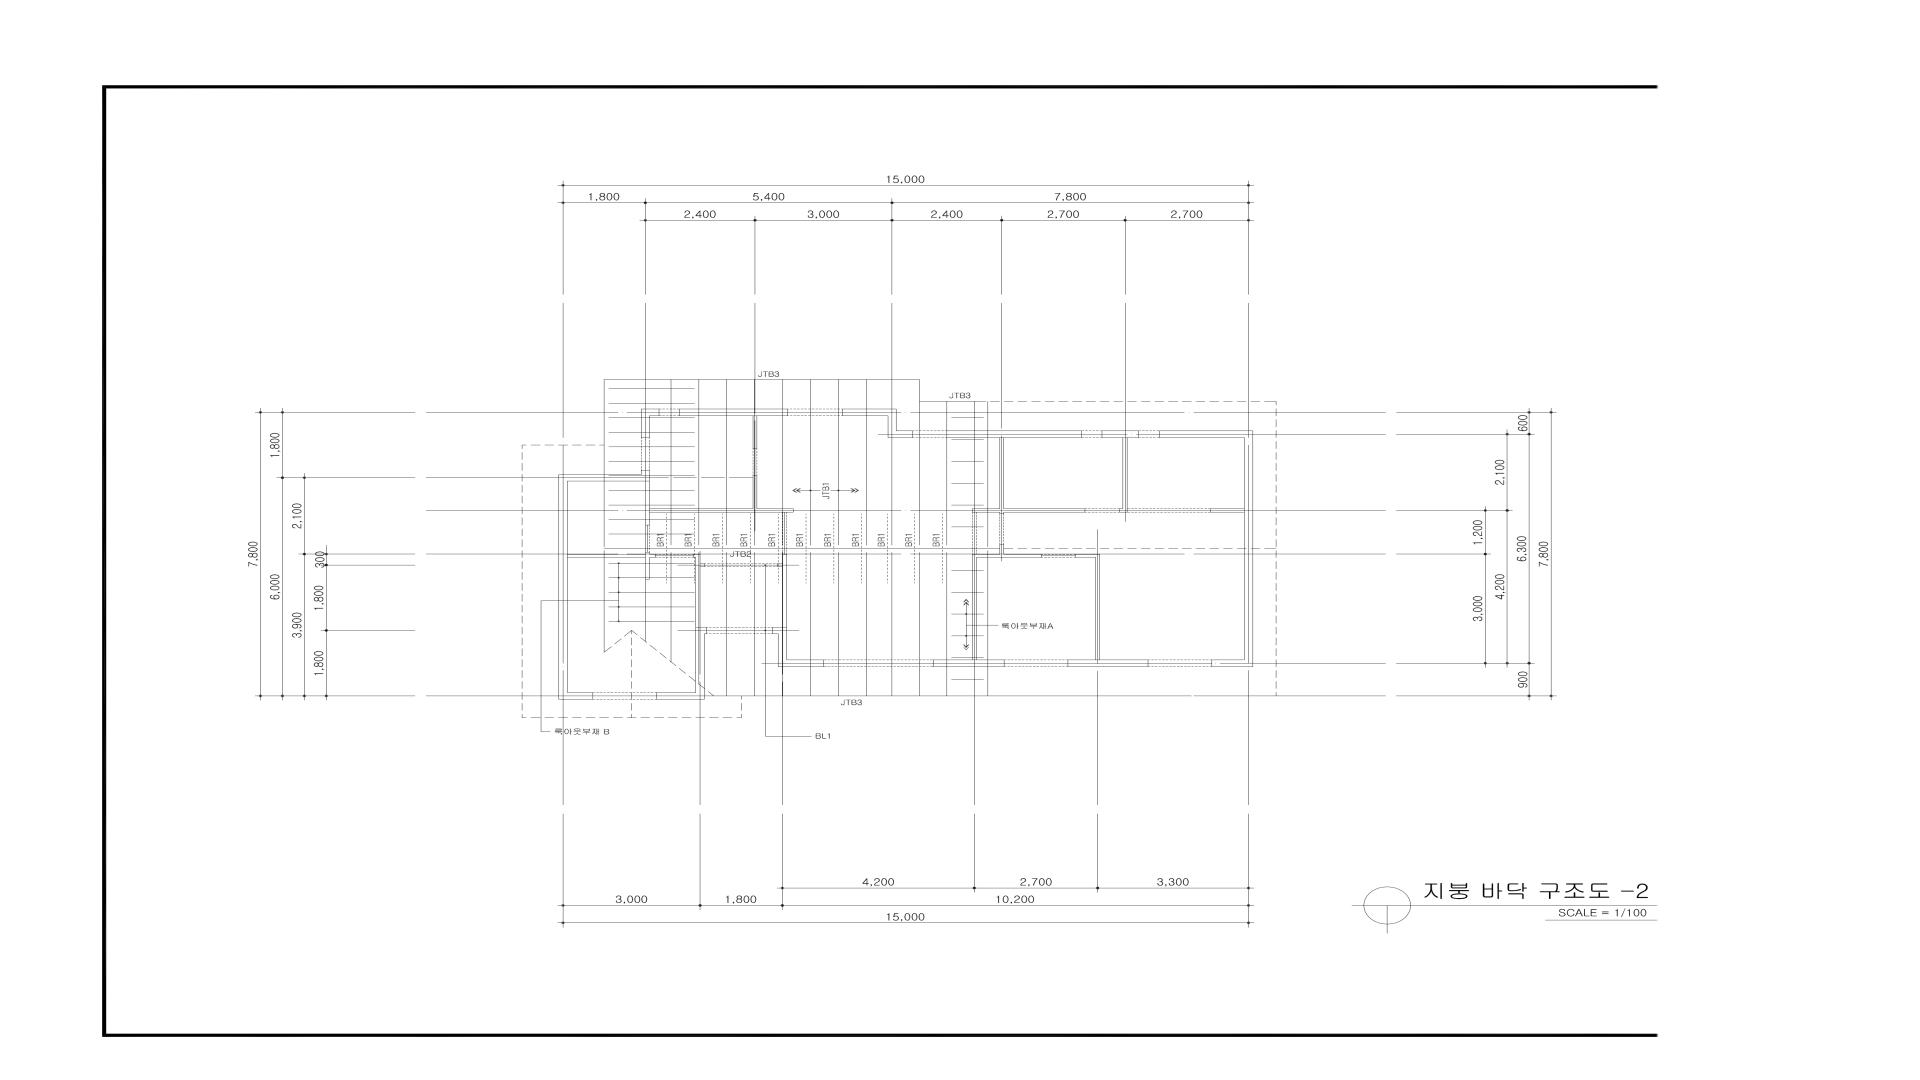wall: (1245, 438, 1253, 667), (559, 475, 567, 692), (947, 431, 1081, 438), (567, 471, 650, 481), (679, 409, 787, 415), (1068, 659, 1149, 667), (1159, 431, 1253, 438), (972, 509, 1085, 514), (695, 634, 704, 699), (1120, 438, 1127, 512), (934, 659, 1005, 667), (694, 554, 700, 628), (773, 628, 787, 659), (1096, 558, 1100, 659), (972, 558, 976, 659), (782, 554, 787, 628), (650, 509, 794, 512), (778, 659, 824, 667), (843, 409, 897, 415), (567, 554, 645, 558), (1000, 438, 1004, 509), (972, 554, 1042, 558), (559, 692, 593, 700), (1212, 659, 1245, 667), (1101, 431, 1139, 438), (657, 692, 695, 699), (645, 481, 650, 525), (641, 415, 650, 438), (887, 415, 897, 438), (645, 553, 650, 579), (1211, 509, 1245, 513), (753, 476, 757, 509), (753, 415, 757, 448), (641, 409, 659, 415), (897, 431, 913, 438), (1075, 554, 1100, 558), (696, 628, 707, 634), (1000, 545, 1004, 554), (650, 554, 655, 558)
